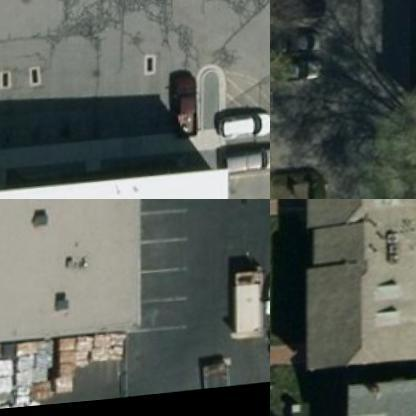car: (270, 27, 325, 64), (213, 109, 269, 143), (270, 50, 323, 85), (174, 75, 197, 138), (223, 148, 269, 176)
